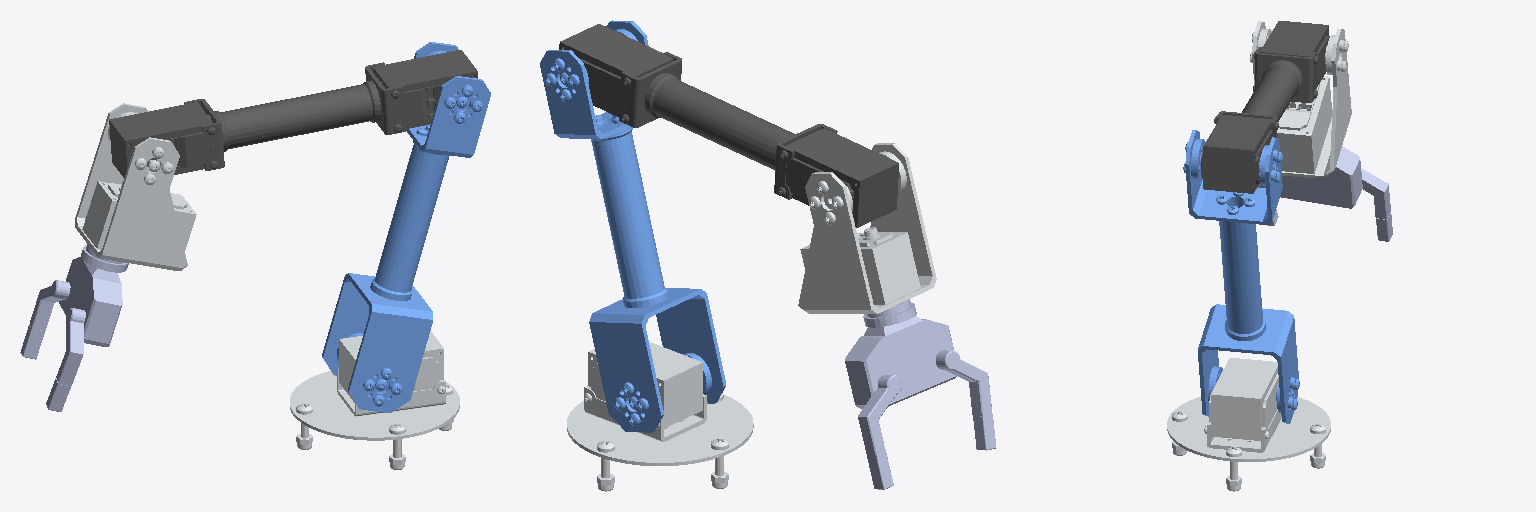
URDF robot description (x_arm_robot):
<?xml version="1.0" encoding="utf-8"?>
<!-- This URDF was automatically created by SolidWorks to URDF Exporter! Originally created by [author] ([email redacted]) 
     Commit Version: 1.6.0-1-g15f4949  Build Version: 1.6.7594.29634
     For more information, please see http://wiki.ros.org/sw_urdf_exporter -->
<robot
  name="x_arm_robot">
  <link
    name="base_link">
    <inertial>
      <origin
        xyz="0.000992910147833731 0.0192768119282905 -3.55232238042703E-09"
        rpy="0 0 0" />
      <mass
        value="0.275342827167611" />
      <inertia
        ixx="0.000276718377377707"
        ixy="-3.19218011851831E-08"
        ixz="4.07986920036569E-10"
        iyy="0.000607179562189748"
        iyz="2.95930775193351E-11"
        izz="0.000339282969938915" />
    </inertial>
    <visual>
      <origin
        xyz="0 0 0"
        rpy="0 0 0" />
      <geometry>
        <mesh
          filename="package://x_arm_robot/description/meshes/base_link.STL" />
      </geometry>
      <material
        name="">
        <color
          rgba="0.752941176470588 0.752941176470588 0.752941176470588 1" />
      </material>
    </visual>
    <collision>
      <origin
        xyz="0 0 0"
        rpy="0 0 0" />
      <geometry>
        <mesh
          filename="package://x_arm_robot/description/meshes/base_link.STL" />
      </geometry>
    </collision>
  </link>
  <link
    name="link1_Link">
    <inertial>
      <origin
        xyz="0.00500978970604664 0.0144179189859899 0.00103906767294184"
        rpy="0 0 0" />
      <mass
        value="0.0609566938962197" />
      <inertia
        ixx="1.34042545650996E-05"
        ixy="1.68566575969334E-09"
        ixz="-6.5278211242729E-07"
        iyy="2.72479752506585E-05"
        iyz="3.64971485493485E-10"
        izz="1.64320287227527E-05" />
    </inertial>
    <visual>
      <origin
        xyz="0 0 0"
        rpy="0 0 0" />
      <geometry>
        <mesh
          filename="package://x_arm_robot/description/meshes/link1_Link.STL" />
      </geometry>
      <material
        name="">
        <color
          rgba="0.898039215686275 0.917647058823529 0.929411764705882 1" />
      </material>
    </visual>
    <collision>
      <origin
        xyz="0 0 0"
        rpy="0 0 0" />
      <geometry>
        <mesh
          filename="package://x_arm_robot/description/meshes/link1_Link.STL" />
      </geometry>
    </collision>
  </link>
  <joint
    name="joint1"
    type="revolute">
    <origin
      xyz="0 0 0.0466"
      rpy="1.5708 0 0" />
    <parent
      link="base_link" />
    <child
      link="link1_Link" />
    <axis
      xyz="0 1 0" />
    <limit
      lower="-3"
      upper="3.25"
      effort="1"
      velocity="1" />
  </joint>
  <link
    name="link2_Link">
    <inertial>
      <origin
        xyz="0.000230226025086822 0.070268465773556 0.0199474739848307"
        rpy="0 0 0" />
      <mass
        value="0.040541334710475" />
      <inertia
        ixx="1.26150545476111E-05"
        ixy="-9.12047075693352E-19"
        ixz="6.71692892007924E-17"
        iyy="7.15326118064165E-06"
        iyz="-2.43994164943898E-06"
        izz="1.50557434736632E-05" />
    </inertial>
    <visual>
      <origin
        xyz="0 0 0"
        rpy="0 0 0" />
      <geometry>
        <mesh
          filename="package://x_arm_robot/description/meshes/link2_Link.STL" />
      </geometry>
      <material
        name="">
        <color
          rgba="0.505882352941176 0.705882352941176 1 1" />
      </material>
    </visual>
    <collision>
      <origin
        xyz="0 0 0"
        rpy="0 0 0" />
      <geometry>
        <mesh
          filename="package://x_arm_robot/description/meshes/link2_Link.STL" />
      </geometry>
    </collision>
  </link>
  <joint
    name="joint2"
    type="revolute">
    <origin
      xyz="-0.0029614 0.02425 -0.00064118"
      rpy="0 1.3576 0" />
    <parent
      link="link1_Link" />
    <child
      link="link2_Link" />
    <axis
      xyz="-1 0 0" />
    <limit
      lower="-1"
      upper="1.75"
      effort="1"
      velocity="1" />
  </joint>
  <link
    name="link3_Link">
    <inertial>
      <origin
        xyz="-0.075491856198589 -0.00511003239930136 -0.0164165377495873"
        rpy="0 0 0" />
      <mass
        value="0.0779074587231969" />
      <inertia
        ixx="8.48450575420013E-06"
        ixy="-8.4890687948916E-07"
        ixz="-2.37961219602133E-06"
        iyy="2.10434391961278E-05"
        iyz="-1.83801268851041E-07"
        izz="1.89597906435552E-05" />
    </inertial>
    <visual>
      <origin
        xyz="0 0 0"
        rpy="0 0 0" />
      <geometry>
        <mesh
          filename="package://x_arm_robot/description/meshes/link3_Link.STL" />
      </geometry>
      <material
        name="">
        <color
          rgba="0.411764705882353 0.411764705882353 0.411764705882353 1" />
      </material>
    </visual>
    <collision>
      <origin
        xyz="0 0 0"
        rpy="0 0 0" />
      <geometry>
        <mesh
          filename="package://x_arm_robot/description/meshes/link3_Link.STL" />
      </geometry>
    </collision>
  </link>
  <joint
    name="joint3"
    type="revolute">
    <origin
      xyz="0 0.14237 0.040417"
      rpy="0 -1.3576 0" />
    <parent
      link="link2_Link" />
    <child
      link="link3_Link" />
    <axis
      xyz="-0.21161 0 0.97735" />
    <limit
      lower="-3.75"
      upper="0.25"
      effort="1"
      velocity="1" />
  </joint>
  <link
    name="link4_Link">
    <inertial>
      <origin
        xyz="0.000934833560960427 -0.031802467296761 0.000269015654353649"
        rpy="0 0 0" />
      <mass
        value="0.0432128993512598" />
      <inertia
        ixx="1.04616787534667E-05"
        ixy="-8.07765010580828E-07"
        ixz="-1.65869945491817E-07"
        iyy="9.94921129818062E-06"
        iyz="-1.74959341501014E-07"
        izz="1.11916759873196E-05" />
    </inertial>
    <visual>
      <origin
        xyz="0 0 0"
        rpy="0 0 0" />
      <geometry>
        <mesh
          filename="package://x_arm_robot/description/meshes/link4_Link.STL" />
      </geometry>
      <material
        name="">
        <color
          rgba="0.898039215686275 0.917647058823529 0.929411764705882 1" />
      </material>
    </visual>
    <collision>
      <origin
        xyz="0 0 0"
        rpy="0 0 0" />
      <geometry>
        <mesh
          filename="package://x_arm_robot/description/meshes/link4_Link.STL" />
      </geometry>
    </collision>
  </link>
  <joint
    name="joint4"
    type="revolute">
    <origin
      xyz="-0.15101 -0.01022 -0.032697"
      rpy="3.1416 0 3.1416" />
    <parent
      link="link3_Link" />
    <child
      link="link4_Link" />
    <axis
      xyz="0.21161 0 -0.97735" />
    <limit
      lower="-3.25"
      upper="0.75"
      effort="1"
      velocity="1" />
  </joint>
  <link
    name="link5_Link">
    <inertial>
      <origin
        xyz="0.00817096186174879 0.0214293403541555 -0.0021416246732325"
        rpy="0 0 0" />
      <mass
        value="0.0303274119248055" />
      <inertia
        ixx="6.7601582440286E-06"
        ixy="-6.95415247740711E-07"
        ixz="-9.92239424315272E-07"
        iyy="4.95168756785745E-06"
        iyz="3.17846404618053E-07"
        izz="3.97784160331156E-06" />
    </inertial>
    <visual>
      <origin
        xyz="0 0 0"
        rpy="0 0 0" />
      <geometry>
        <mesh
          filename="package://x_arm_robot/description/meshes/link5_Link.STL" />
      </geometry>
      <material
        name="">
        <color
          rgba="0.792156862745098 0.819607843137255 0.933333333333333 1" />
      </material>
    </visual>
    <collision>
      <origin
        xyz="0 0 0"
        rpy="0 0 0" />
      <geometry>
        <mesh
          filename="package://x_arm_robot/description/meshes/link5_Link.STL" />
      </geometry>
    </collision>
  </link>
  <joint
    name="joint5"
    type="revolute">
    <origin
      xyz="0.01654 -0.053749 0.0035811"
      rpy="3.1416 0 0" />
    <parent
      link="link4_Link" />
    <child
      link="link5_Link" />
    <axis
      xyz="0.2931 0.95397 -0.063461" />
    <limit
      lower="-3.25"
      upper="3"
      effort="1"
      velocity="1" />
  </joint>
    <link name="dummy">
  </link>
    <joint name="dummy_joint" type="fixed">
    <parent link="dummy" />
    <child link="base_link" />
  </joint>


</robot>

--- What the picture shows (computed from the rendered views, not written in the file) ---
Views: 3 orthographic renders of the robot side by side, from view 1: azimuth 30°, elevation 25°; view 2: azimuth 150°, elevation 25°; view 3: azimuth 270°, elevation 25°.
Model x_arm_robot with 7 links and 6 joints (5 revolute, 1 fixed), rooted at dummy, posed all joints at 0.
Links seen in each view (by area): view 1: link2_Link, link3_Link, link4_Link, link1_Link, link5_Link; view 2: link2_Link, link3_Link, link4_Link, link1_Link, link5_Link; view 3: link2_Link, link1_Link, link3_Link, link4_Link, link5_Link.
Link boxes in pixels (box(x1,y1,x2,y2)): link2_Link: box(322, 42, 490, 412); link3_Link: box(109, 50, 477, 177); link4_Link: box(75, 103, 196, 270); link1_Link: box(290, 331, 459, 469); link5_Link: box(20, 244, 128, 411); link2_Link: box(540, 20, 725, 432); link3_Link: box(559, 24, 898, 227); link4_Link: box(798, 143, 936, 313); link1_Link: box(567, 342, 753, 491); link5_Link: box(845, 299, 995, 489); link2_Link: box(1183, 130, 1299, 423); link1_Link: box(1167, 358, 1330, 491); link3_Link: box(1201, 21, 1329, 193); link4_Link: box(1250, 21, 1351, 177); link5_Link: box(1258, 146, 1392, 241).
Size in the robot's own frame: 0.2285 by 0.1117 by 0.1935 metres.
5 mesh visuals loaded from 6 distinct referenced files (5 binary STL); not drawn: 1 (reference not matched to a file when rendering).